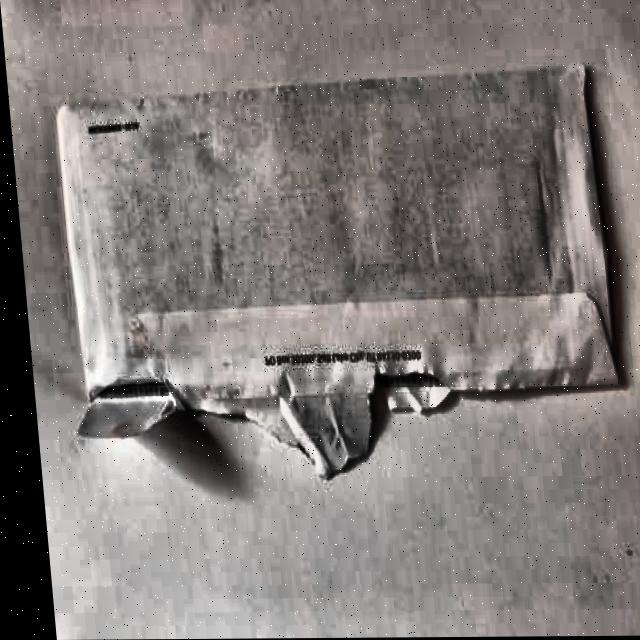paper: (47, 62, 629, 471)
